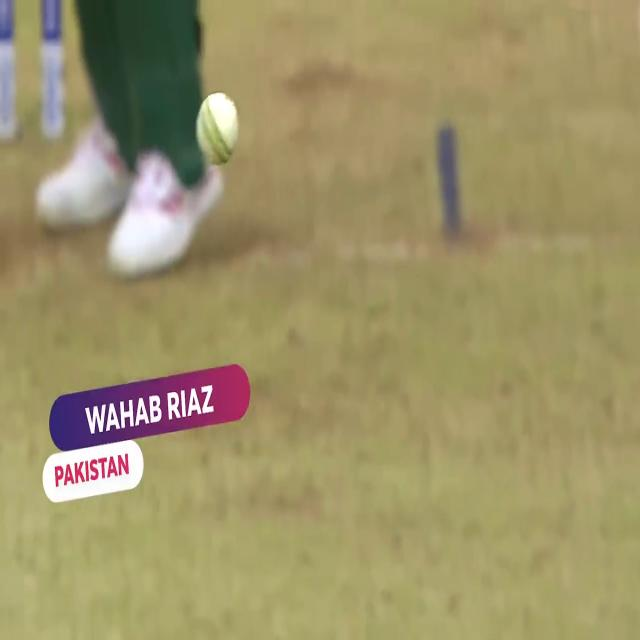ball: (195, 89, 242, 174)
